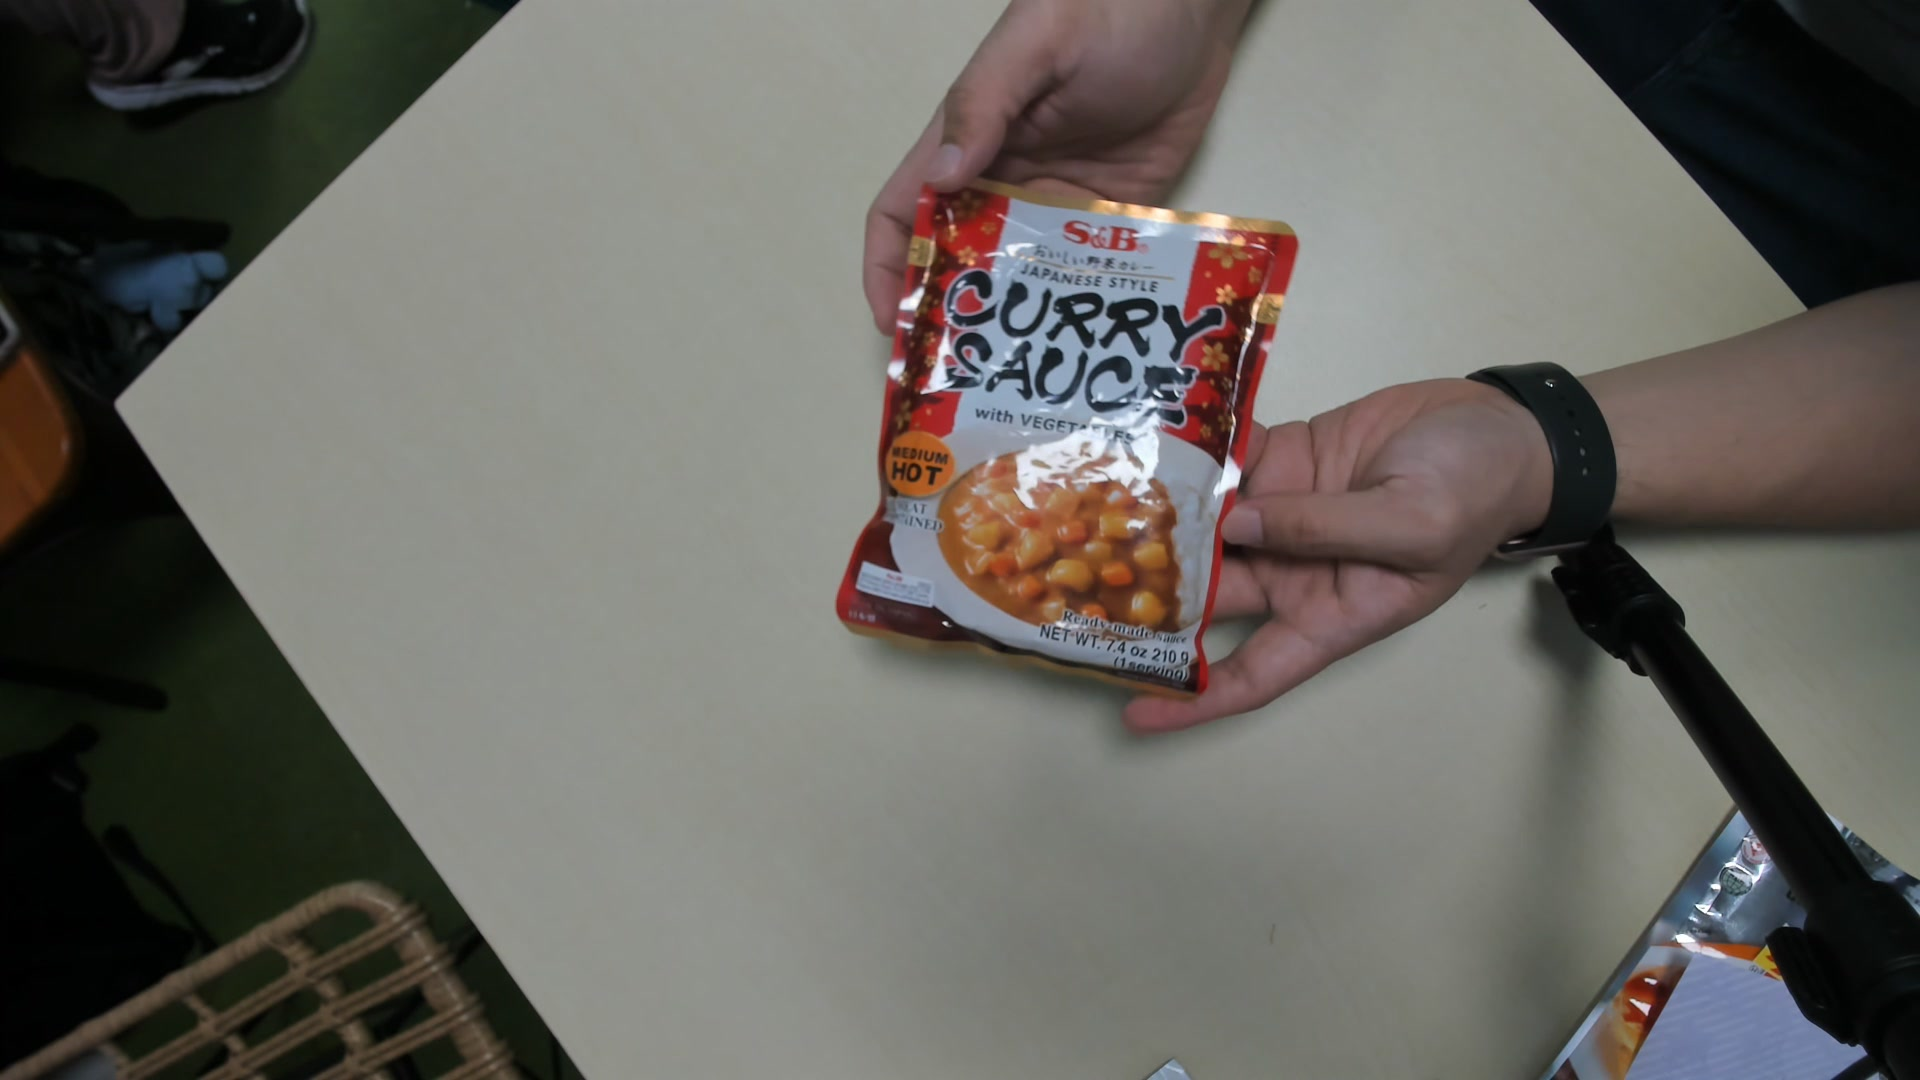CurryPastePowderSauce_200-299g_NonHalal_NonHealthy: (840, 187, 1286, 694)
